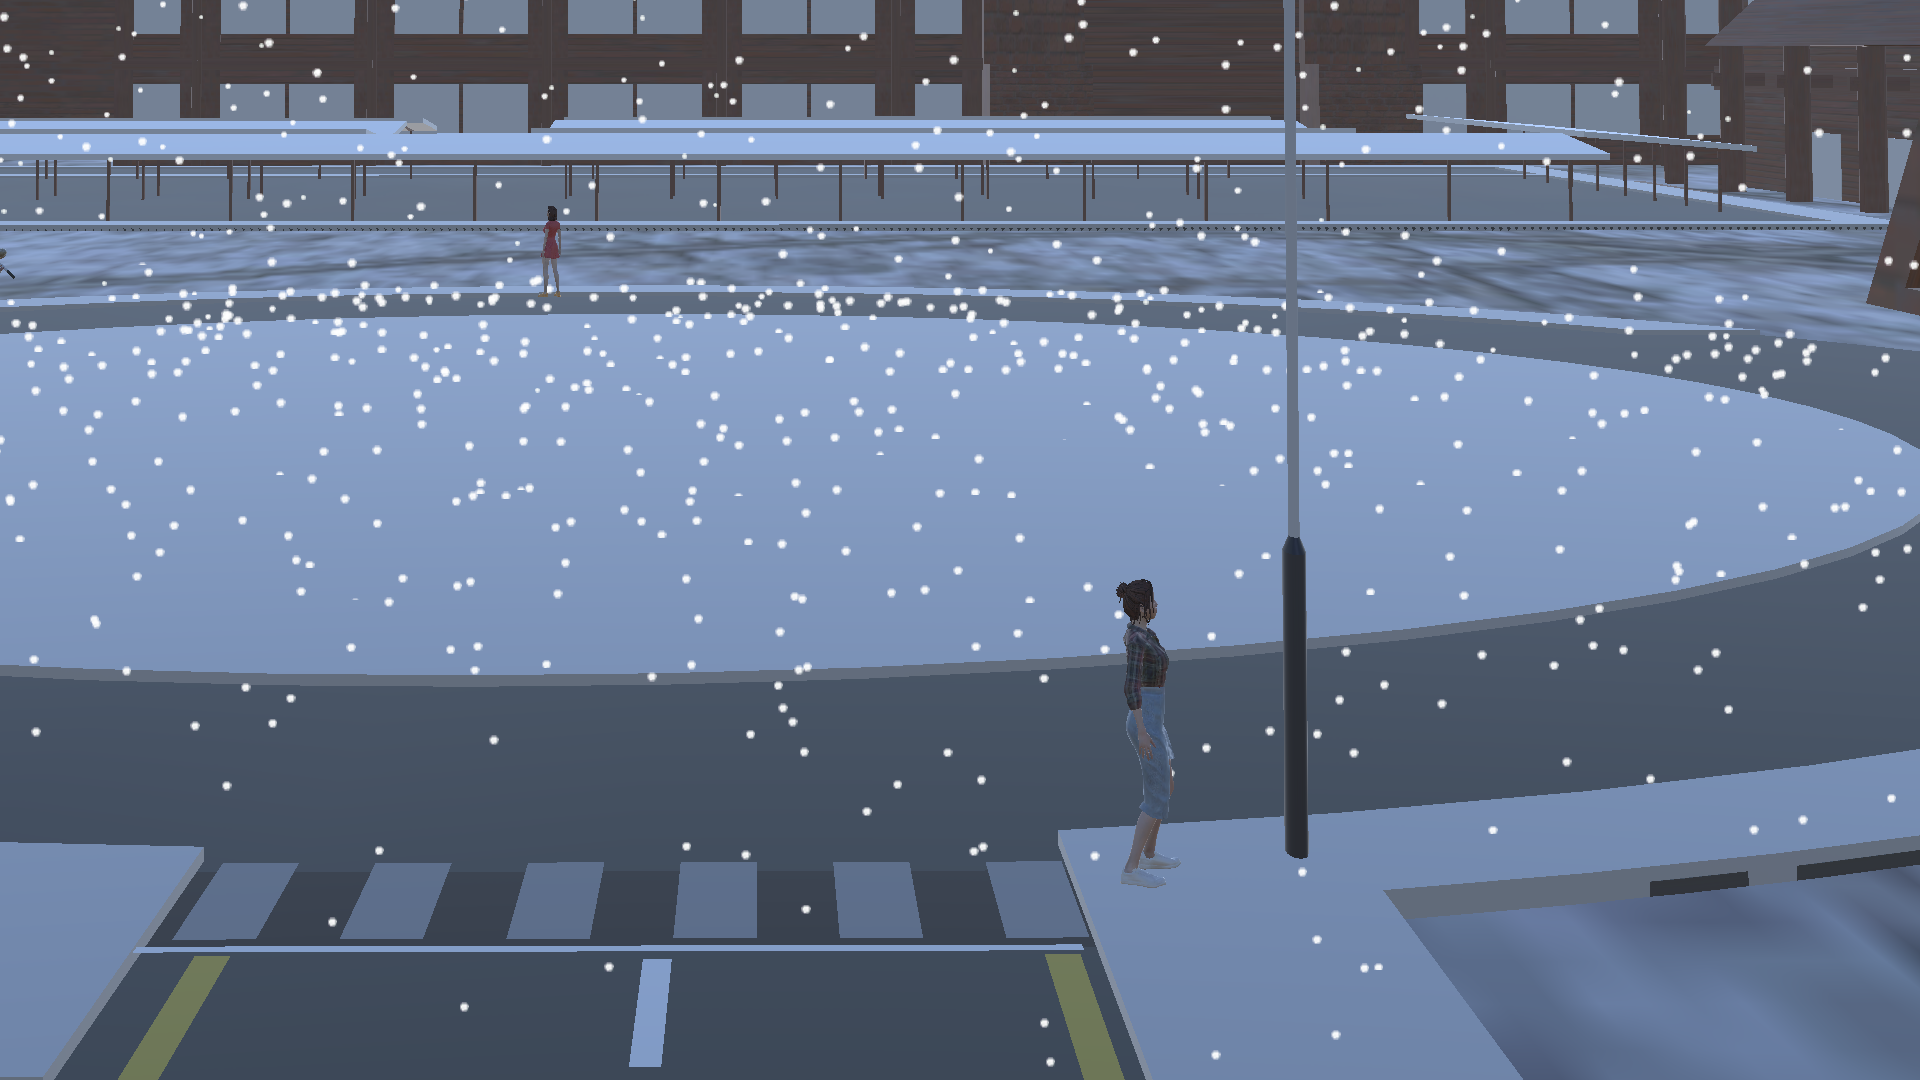pedestrian: (1102, 575, 1201, 896), (530, 199, 573, 305)
